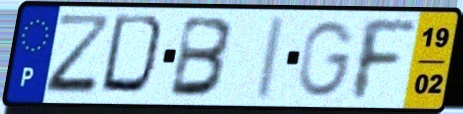B: (166, 13, 237, 99)
D: (97, 12, 172, 100)
F: (350, 15, 420, 103)
G: (295, 18, 358, 100)
I: (250, 13, 289, 104)
Z: (42, 12, 116, 98)
